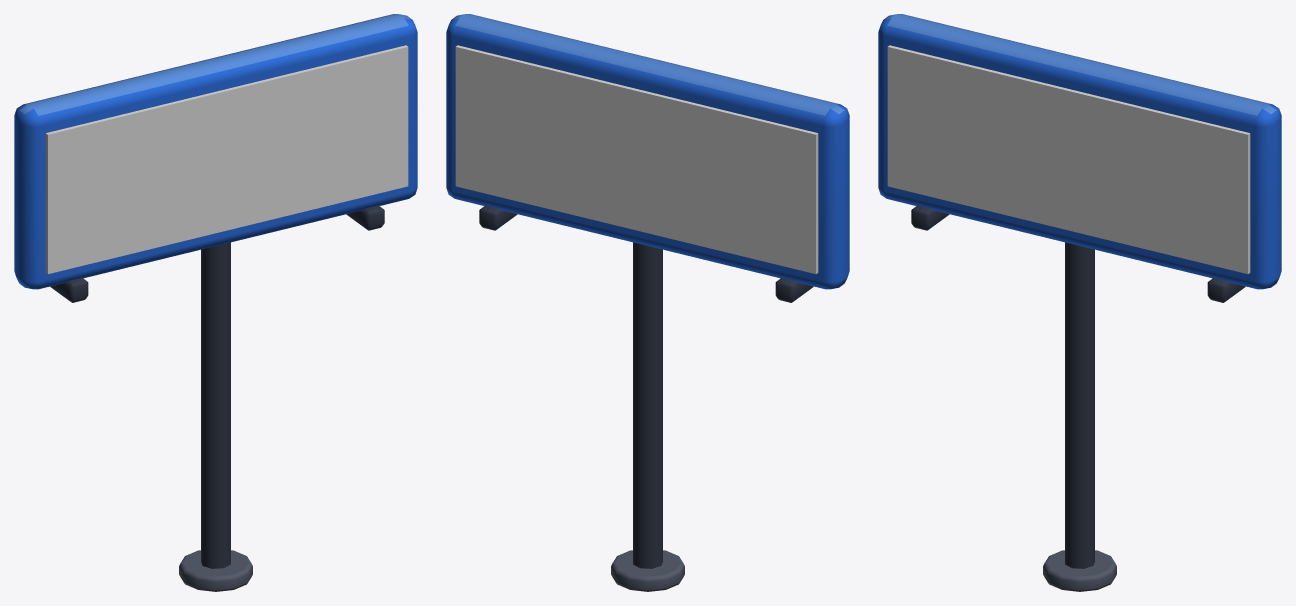
The model's file is mint-sign.glb.
3 renders of one model, left to right at view 1: azimuth 30°, elevation 25°; view 2: azimuth 150°, elevation 25°; view 3: azimuth 330°, elevation 25°, orthographic.
Visible parts, largest first — view 1: mint-sign; view 2: mint-sign; view 3: mint-sign.
Boxes of the visible parts, x1,y1,x2,y2 form: mint-sign: [14, 14, 417, 591]; mint-sign: [446, 14, 849, 591]; mint-sign: [878, 14, 1281, 591].
Bounding box in the file's own units: 1.6 × 2 × 0.26.
